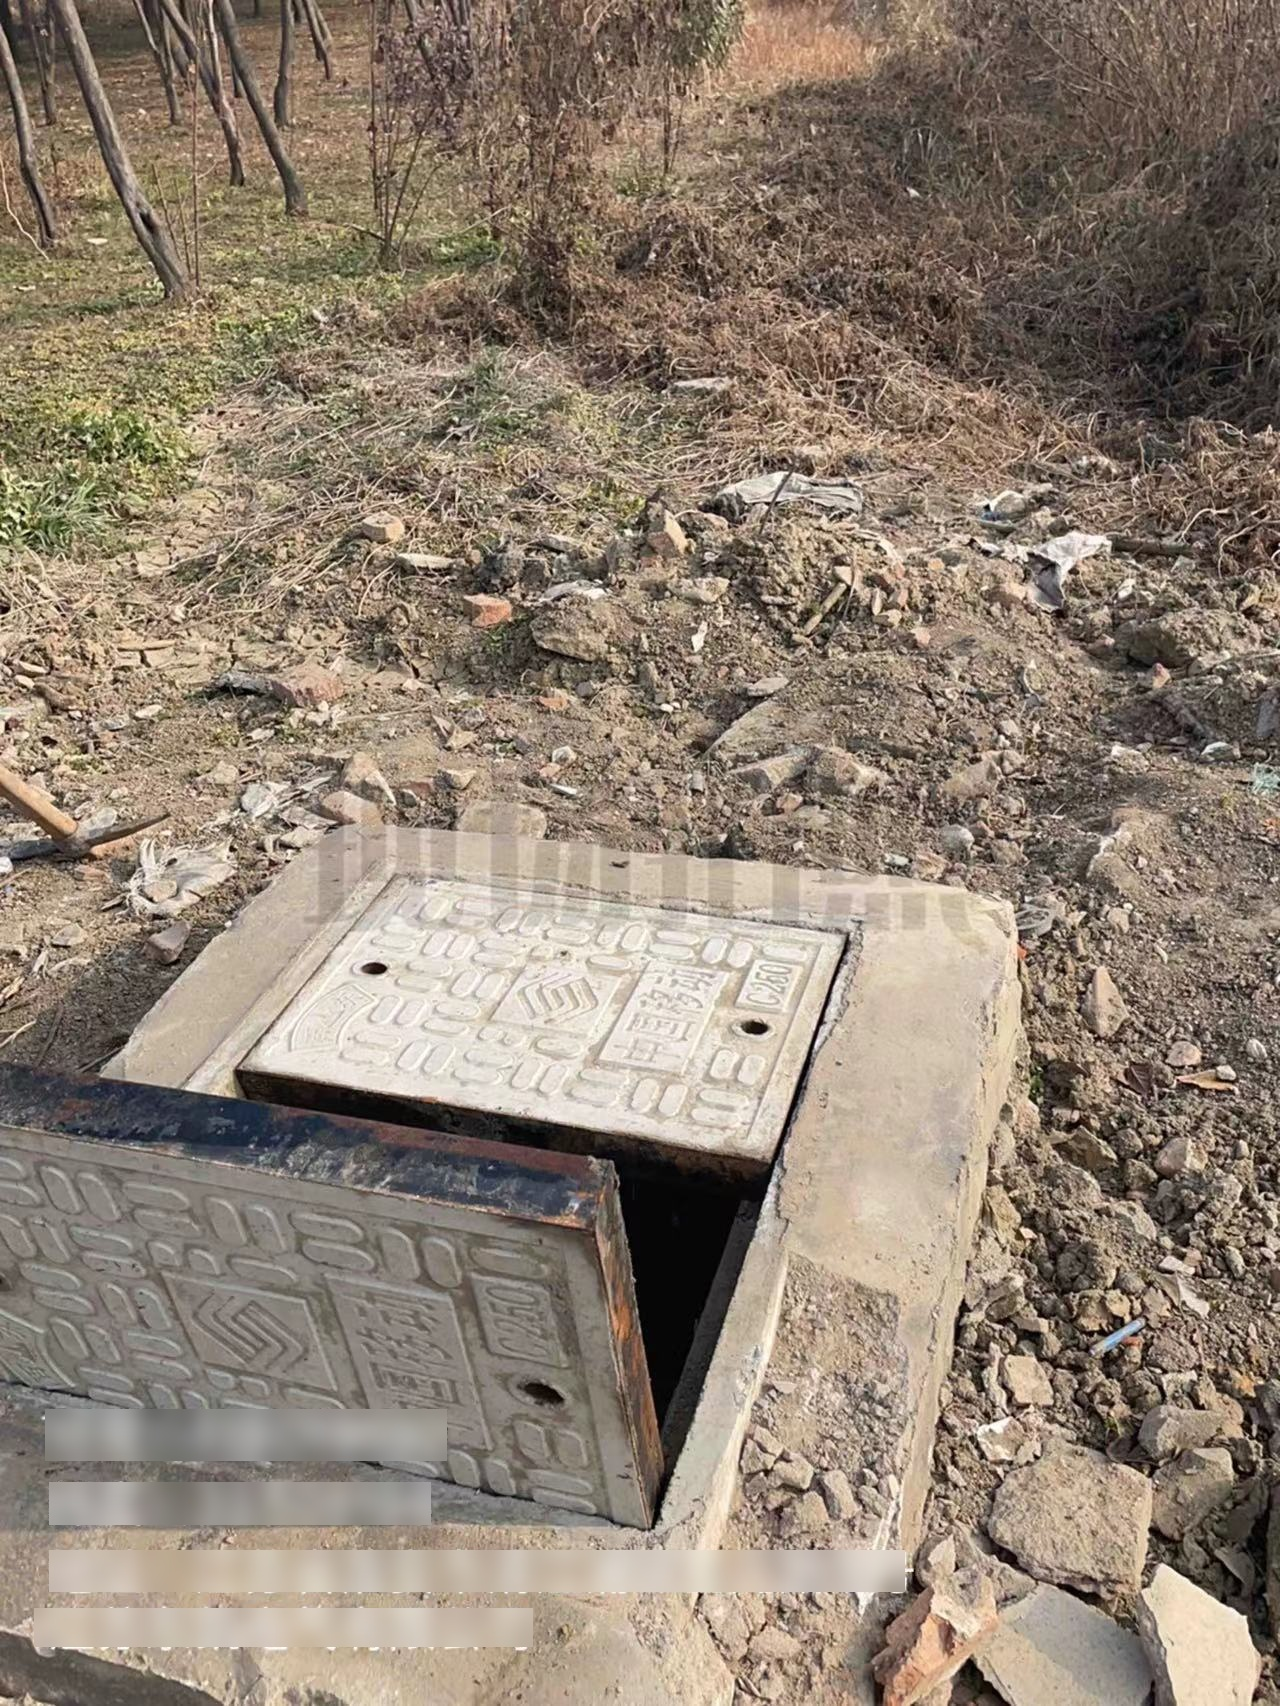uncovered: (9, 821, 875, 1706)
